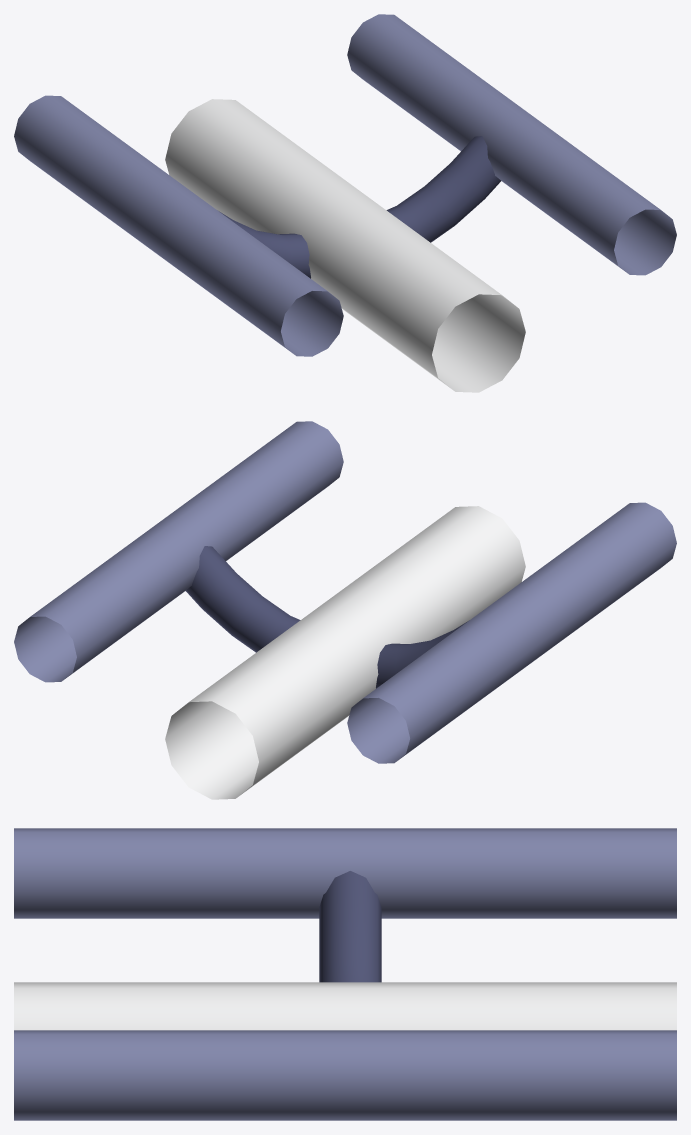
File: Rail_5 1.fbx
3 renders of one model, top to bottom at view 1: azimuth 30°, elevation 25°; view 2: azimuth 150°, elevation 25°; view 3: azimuth 270°, elevation 25°, orthographic. The views are drawn at different scales.
Parts seen in each view (by area): view 1: Rail_5; view 2: Rail_5; view 3: Rail_5.
Boxes of the visible parts, x1,y1,x2,y2 form: Rail_5: (14, 14, 676, 392); Rail_5: (14, 421, 676, 799); Rail_5: (14, 828, 676, 1120).
Bounding box in the file's own units: 274 × 94.21 × 319.
